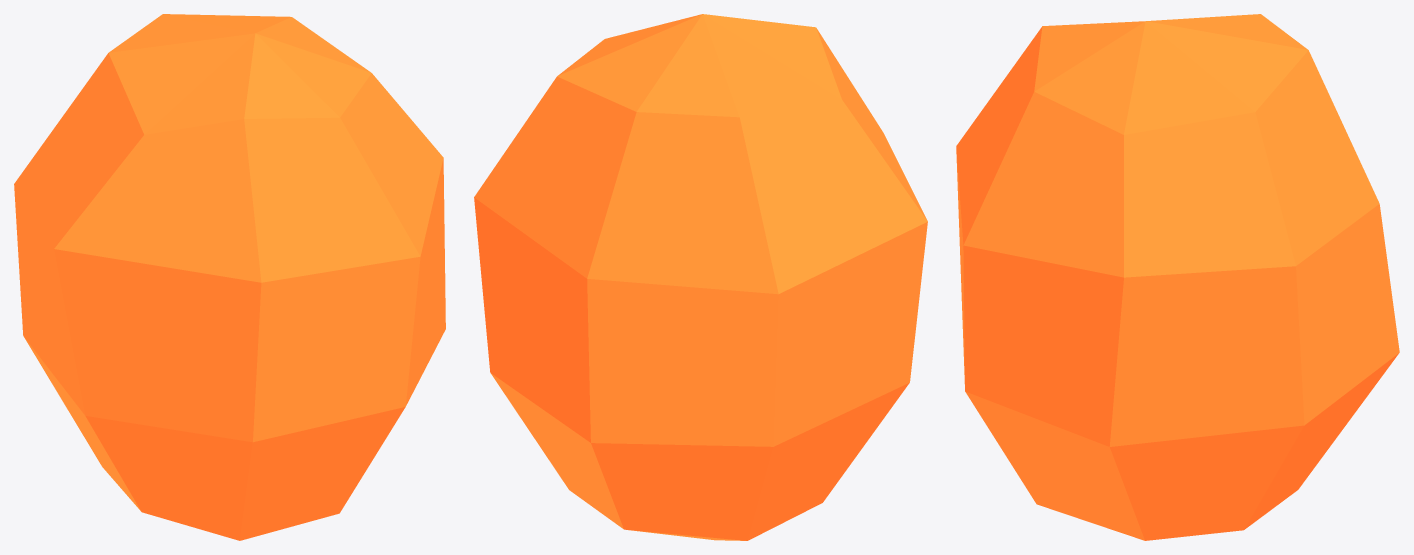
File: creature_corn_husk_heart.glb
The picture shows the model from 3 angles, left to right: view 1: azimuth 30°, elevation 25°; view 2: azimuth 150°, elevation 25°; view 3: azimuth 270°, elevation 25°; orthographic projection. The views are drawn at different scales.
Visible parts, largest first — view 1: Heart; view 2: Heart; view 3: Heart.
Boxes of the visible parts, x1,y1,x2,y2 form: Heart: (14,14,445,540); Heart: (474,14,927,540); Heart: (956,14,1399,540).
Size of the model in its own units: 0.3272 by 0.4003 by 0.3116.
